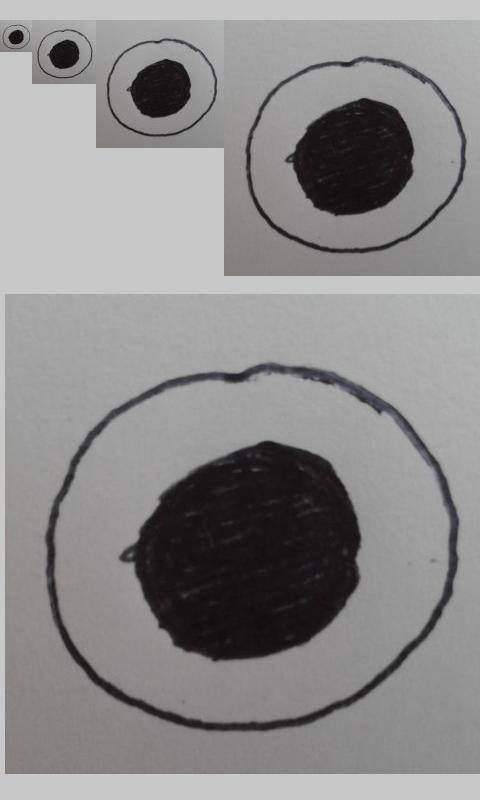radio_button: (41, 359, 460, 735), (244, 54, 467, 255), (106, 37, 219, 138), (36, 28, 93, 79), (2, 24, 31, 50)
